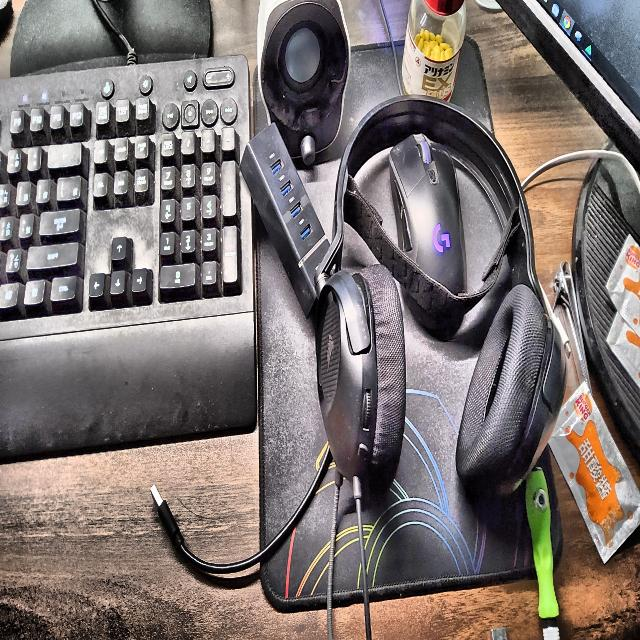HUB: (151, 452, 330, 574), (240, 124, 329, 317)
Keyboard: (0, 56, 257, 463)
MOUSE: (390, 134, 467, 293)
